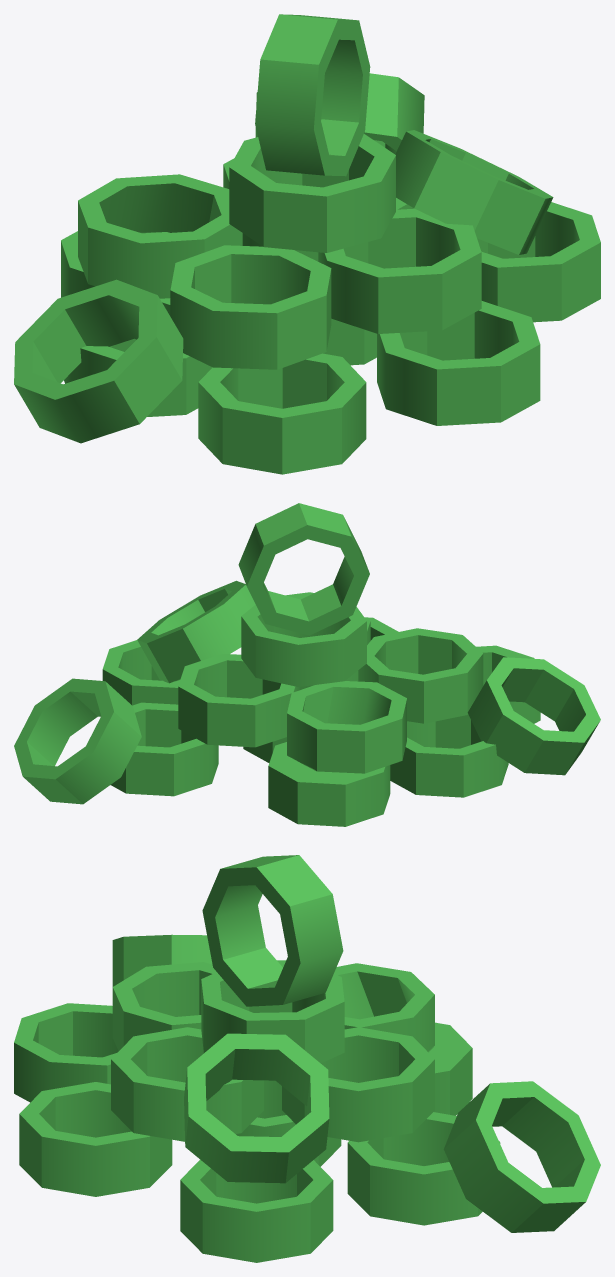
The model's file is ASFTR_ChoppedOnion.fbx.
The picture shows the model from 3 angles, top to bottom: view 1: azimuth 30°, elevation 25°; view 2: azimuth 150°, elevation 25°; view 3: azimuth 270°, elevation 25°; orthographic projection. The views are drawn at different scales.
Visible parts, largest first — view 1: ASFTR_ChoppedOnion; view 2: ASFTR_ChoppedOnion; view 3: ASFTR_ChoppedOnion.
Boxes of the visible parts, x1,y1,x2,y2 form: ASFTR_ChoppedOnion: (14,14,600,474); ASFTR_ChoppedOnion: (14,503,600,826); ASFTR_ChoppedOnion: (14,855,600,1262).
Size of the model in its own units: 22.13 by 11.17 by 20.52.
